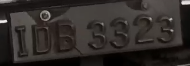IDB3323: (2, 1, 188, 66)
